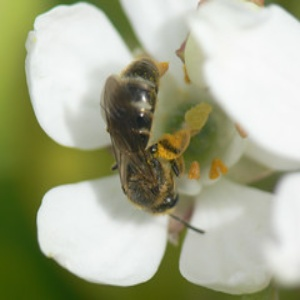bee: (102, 50, 192, 216)
